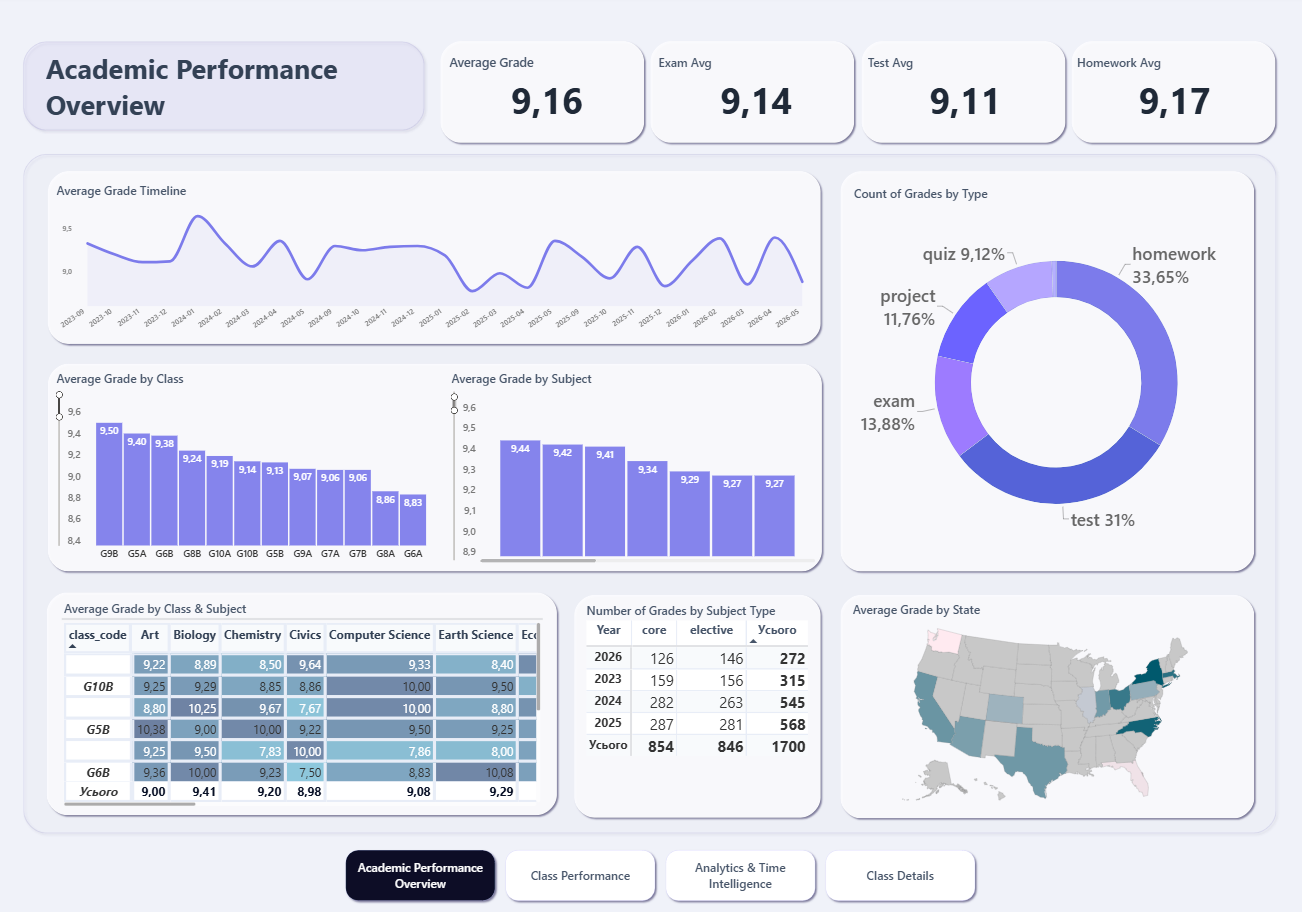

The dashboard page shown, as its layout file describes it:
{"tool":"powerbi","page":{"name":"Academic Performance Overview","canvas":[2925,2050],"ordinal":0},"visuals":[{"type":"shape","title":"Homework Average Grade","box":[980,83.5,470.8,243],"z":0,"group":"g2"},{"type":"shape","box":[47.4,334.8,2815,1534.4],"z":0},{"type":"shape","box":[46.7,83.3,913.3,216.7],"z":1000,"group":"g1"},{"type":"shape","title":"Homework Average Grade","box":[1450,83.5,470.8,243],"z":1000,"group":"g2"},{"type":"pageNavigator","box":[766.4,1889,1424,130],"z":1000},{"type":"group","id":"g1","title":"Група 1","box":[46.7,83.3,913.3,216.7],"z":2000},{"type":"shape","title":"Homework Average Grade","box":[1920,83.5,470.8,243],"z":2000,"group":"g2"},{"type":"group","id":"g2","title":"Група 4","box":[980,50.9,1883.2,292.9],"z":3000},{"type":"shape","title":"Homework Average Grade","box":[2390,83.5,470.8,243],"z":3000,"group":"g2"},{"type":"cardVisual","fields":{"Data":["_Measures.Average Grade","_Measures.Exam Average Grade","_Measures.Test Average Grade","_Measures.Homework Average Grade"]},"box":[991.2,50.9,1872,292.9],"z":4000,"group":"g2"},{"type":"group","id":"g3","title":"Група 2","box":[103.2,373.8,1740.9,401.7],"z":4000},{"type":"shape","title":"Homework Average Grade","box":[103.2,373.8,1740.9,401.7],"z":4000,"group":"g3"},{"type":"shape","title":"Homework Average Grade","box":[1872,373.8,939.8,909.5],"z":5000,"group":"g8"},{"type":"group","id":"g4","title":"Група 3","box":[103.2,803.5,1743.7,479.9],"z":5000},{"type":"shape","title":"Homework Average Grade","box":[103.2,803.5,1743.7,479.9],"z":6000,"group":"g4"},{"type":"group","id":"g5","title":"Група 5","box":[100.4,1314,1155,513.3],"z":6000},{"type":"shape","title":"Homework Average Grade","box":[100.4,1314,1155,513.3],"z":7000,"group":"g5"},{"type":"group","id":"g6","title":"Група 6","box":[1277.8,1319.6,566.3,513.3],"z":7000},{"type":"shape","title":"Homework Average Grade","box":[1277.8,1319.6,566.3,513.3],"z":8000,"group":"g6"},{"type":"group","id":"g7","title":"Група 7","box":[1872,1319.6,940.2,516.1],"z":8000},{"type":"group","id":"g8","title":"Група 8","box":[1872,373.8,945.8,909.5],"z":9000},{"type":"shape","title":"Homework Average Grade","box":[1872,1319.6,940,514.9],"z":9000,"group":"g7"},{"type":"lineChart","title":"Average Grade Timeline","fields":{"Y":["Metrics.average grade"],"Category":["Calendar.Year-Month"]},"box":[125.7,406.8,1699.4,346.5],"z":10000,"group":"g3"},{"type":"clusteredColumnChart","title":"Average Grade by Class","fields":{"Category":["classes.class_code"],"Y":["Metrics.average grade"]},"box":[126.8,824.5,860,434.9],"z":11000,"group":"g4"},{"type":"clusteredColumnChart","title":"Average Grade by Subject","fields":{"Category":["subjects.subject_name"],"Y":["Metrics.average grade"]},"box":[1007.5,824.5,821.6,434.9],"z":12000,"group":"g4"},{"type":"pivotTable","title":"Average Grade by Class & Subject","fields":{"Rows":["classes.class_code"],"Columns":["subjects.subject_name"],"Values":["Metrics.average grade"]},"box":[141.2,1337.9,1073.5,465.6],"z":13000,"group":"g5"},{"type":"pivotTable","title":"Number of Grades by Subject Type","fields":{"Columns":["subjects.subject_type"],"Values":["Count(grades.grade_id)"],"Rows":["Calendar.Year","Calendar.Month Name"]},"box":[1308.2,1343.5,505.5,465.6],"z":14000,"group":"g6"},{"type":"shapeMap","title":"Average Grade by State","fields":{"Category":["students.state"],"Value":["Metrics.average grade"]},"box":[1902,1342.9,877.1,467],"z":15000,"group":"g7"},{"type":"donutChart","title":"Count of Grades by Type","fields":{"Category":["grades.grade_type"],"Y":["Sum(grades.grade_id)"]},"box":[1904.9,413,912.8,846.3],"z":16000,"group":"g8"}]}

Visuals, with their boxes in screenshot pixels (x1, y1, x2, y2), scaled from the page's 2925x2050 canvas onto the 1302x912 screenshot:
"Homework Average Grade" shape: left=436, top=37, right=646, bottom=145
shape: left=21, top=149, right=1274, bottom=832
shape: left=21, top=37, right=427, bottom=133
"Homework Average Grade" shape: left=645, top=37, right=855, bottom=145
pageNavigator: left=341, top=840, right=975, bottom=898
"Група 1" group: left=21, top=37, right=427, bottom=133
"Homework Average Grade" shape: left=855, top=37, right=1064, bottom=145
"Група 4" group: left=436, top=23, right=1274, bottom=153
"Homework Average Grade" shape: left=1064, top=37, right=1273, bottom=145
cardVisual - _Measures.Average Grade x _Measures.Exam Average Grade: left=441, top=23, right=1274, bottom=153
"Група 2" group: left=46, top=166, right=821, bottom=345
"Homework Average Grade" shape: left=46, top=166, right=821, bottom=345
"Homework Average Grade" shape: left=833, top=166, right=1252, bottom=571
"Група 3" group: left=46, top=357, right=822, bottom=571
"Homework Average Grade" shape: left=46, top=357, right=822, bottom=571
"Група 5" group: left=45, top=585, right=559, bottom=813
"Homework Average Grade" shape: left=45, top=585, right=559, bottom=813
"Група 6" group: left=569, top=587, right=821, bottom=815
"Homework Average Grade" shape: left=569, top=587, right=821, bottom=815
"Група 7" group: left=833, top=587, right=1252, bottom=817
"Група 8" group: left=833, top=166, right=1254, bottom=571
"Homework Average Grade" shape: left=833, top=587, right=1252, bottom=816
"Average Grade Timeline" lineChart: left=56, top=181, right=812, bottom=335
"Average Grade by Class" clusteredColumnChart: left=56, top=367, right=439, bottom=560
"Average Grade by Subject" clusteredColumnChart: left=448, top=367, right=814, bottom=560
"Average Grade by Class & Subject" pivotTable: left=63, top=595, right=541, bottom=802
"Number of Grades by Subject Type" pivotTable: left=582, top=598, right=807, bottom=805
"Average Grade by State" shapeMap: left=847, top=597, right=1237, bottom=805
"Count of Grades by Type" donutChart: left=848, top=184, right=1254, bottom=560
